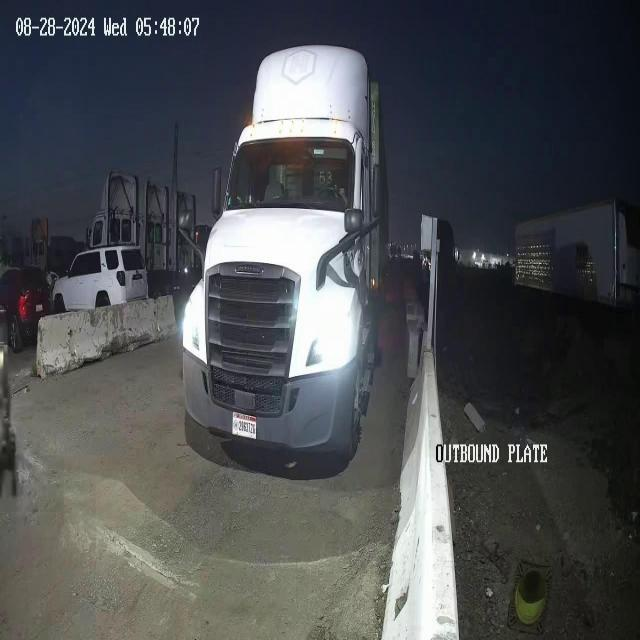TRUCK_OUT: (182, 42, 388, 474)
